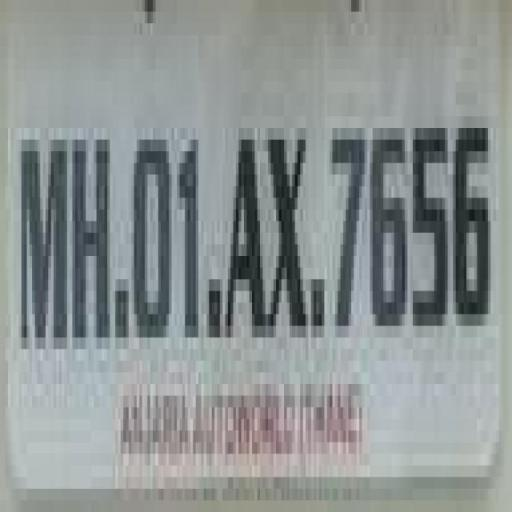number plate: (16, 0, 512, 442)
